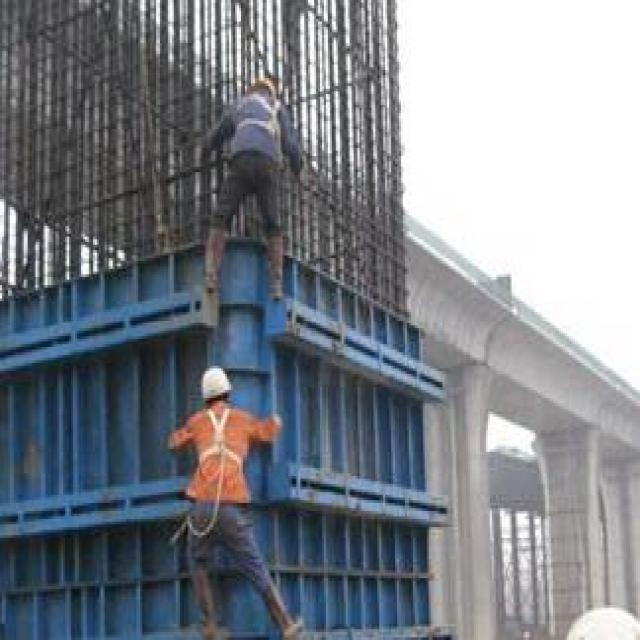Arnes_seguridad: (190, 401, 245, 471)
